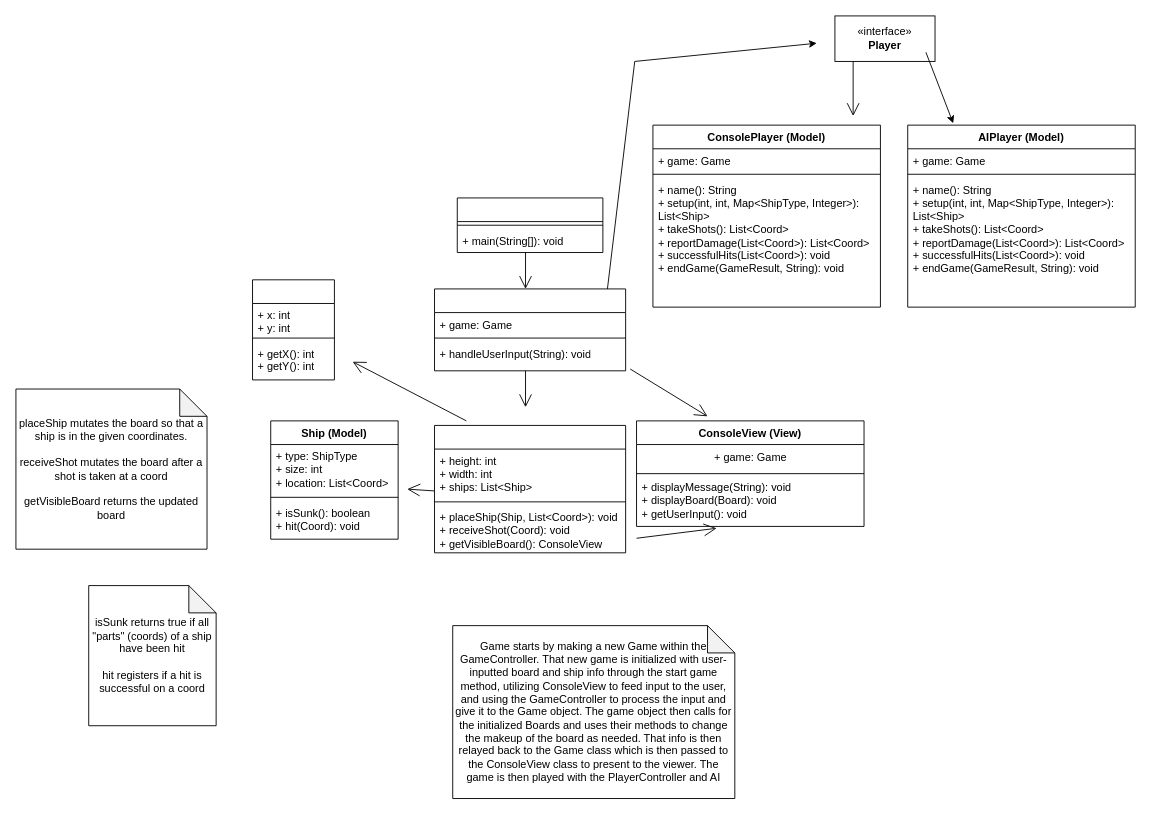
Some shapes in this 1151 by 814 pixel diagram are drawn without their labels. The box of each missing label's shape, as (x1, y1, x2, y2) in pixels:
Board (Model): (434, 425, 626, 553)
Coord (Model): (252, 279, 334, 380)
Driver: (456, 197, 603, 253)
GameController (Controller): (434, 288, 626, 371)
